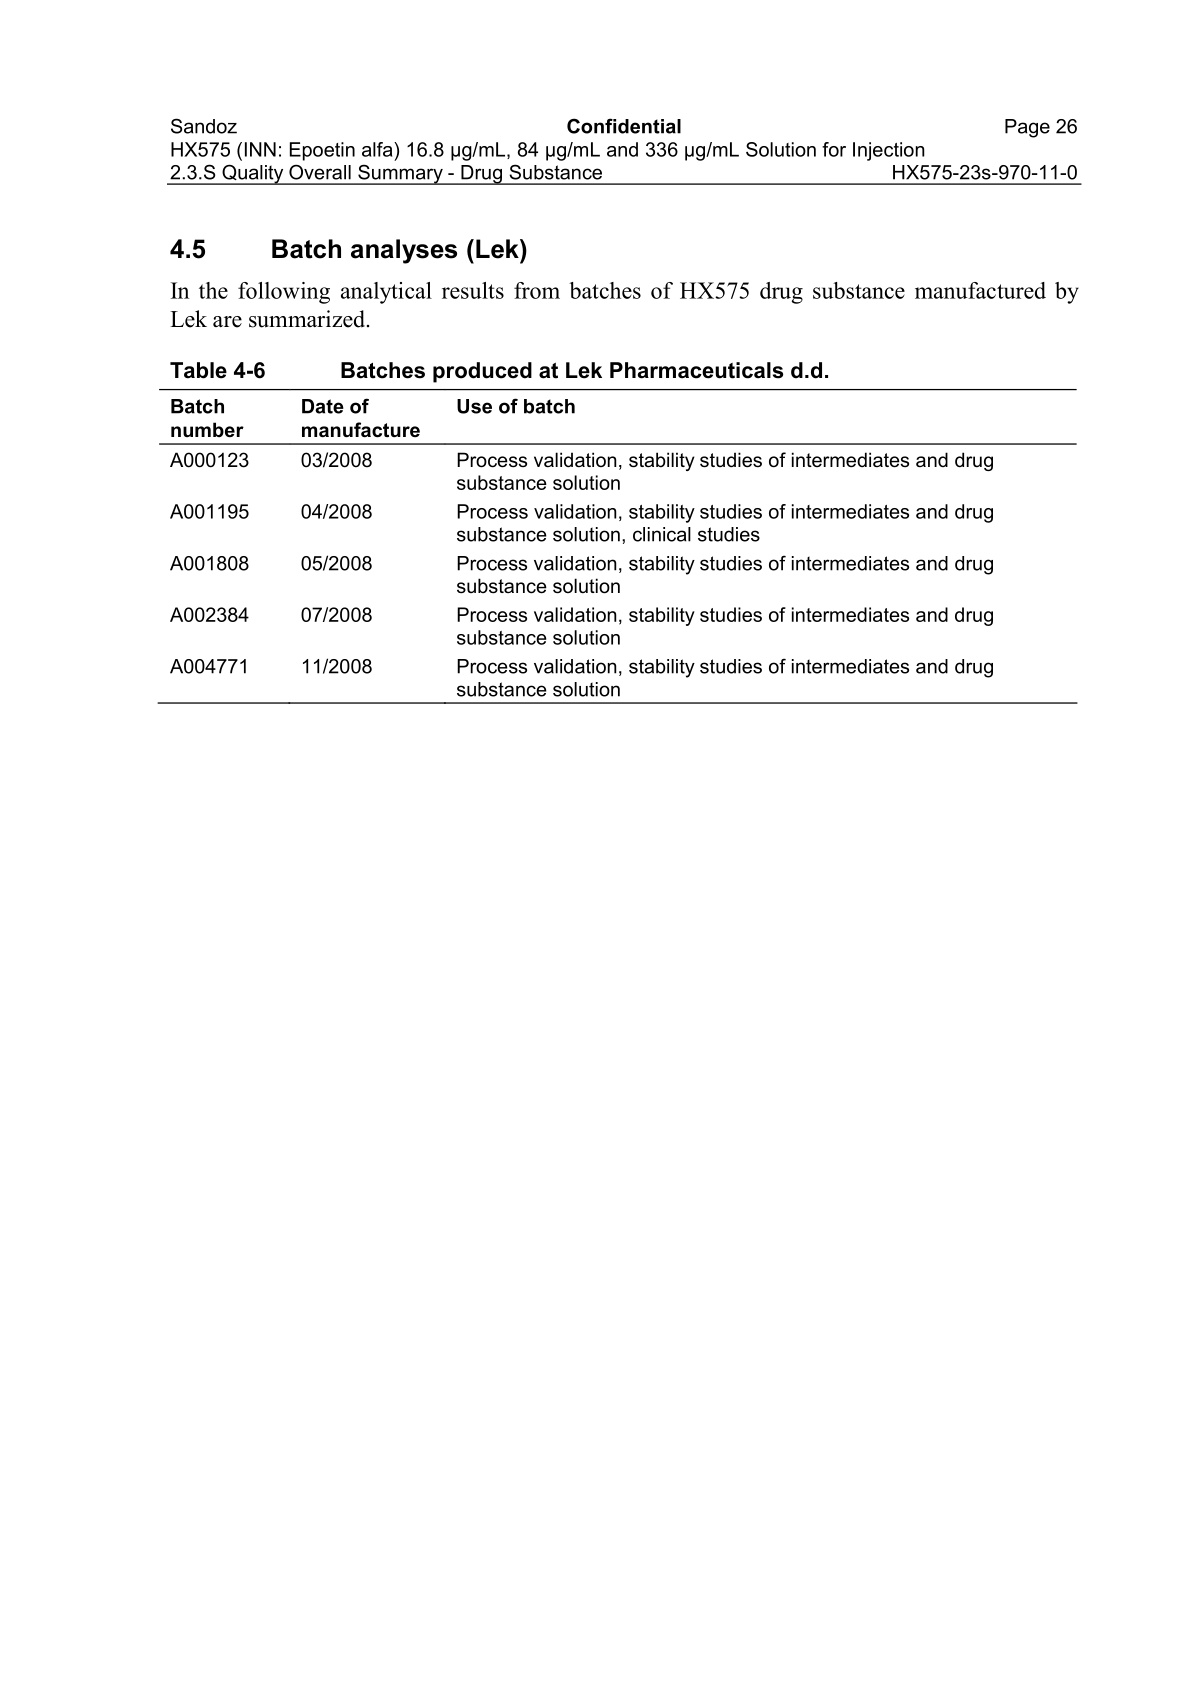partial_lined: (157, 388, 1079, 705)
